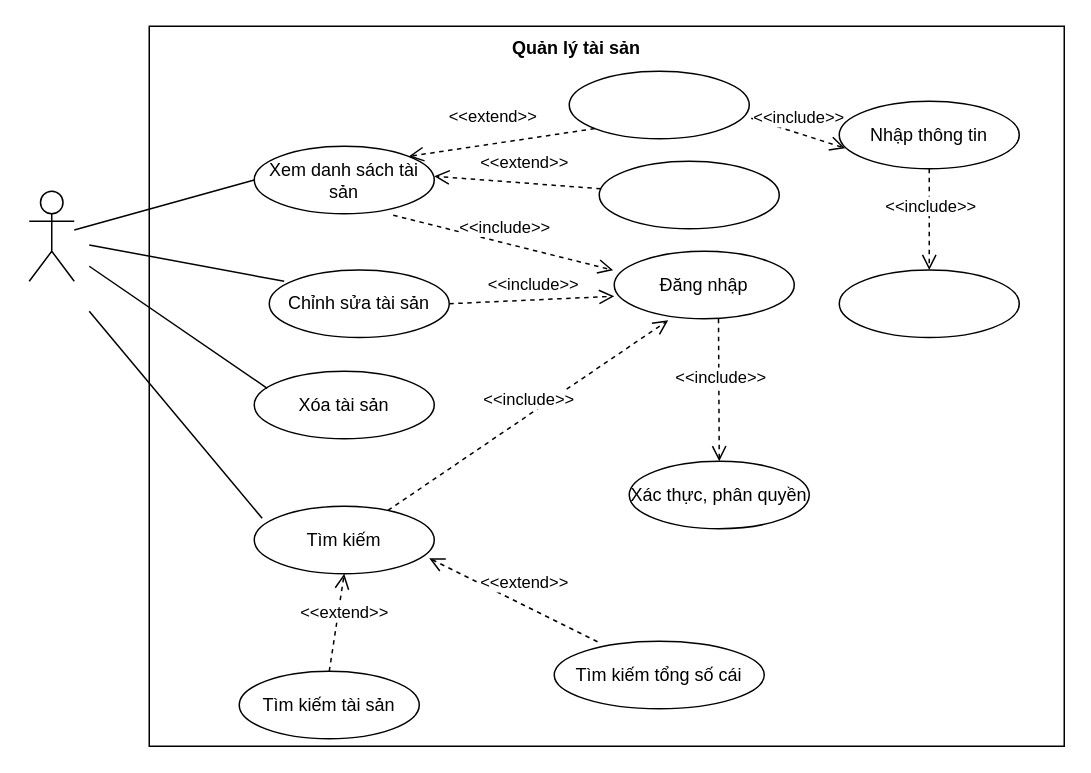
This 1091x773 diagram has some shape labels left out. The shapes that lost their labels are listed below. From the top down, each one's centre as x and y in pixels, then its label:
At point 658,104: "Thêm mới tài sản".
At point 688,194: "Xem chi tiết tài sản".
At point 51,235: "Admin".
At point 928,303: "validate".
